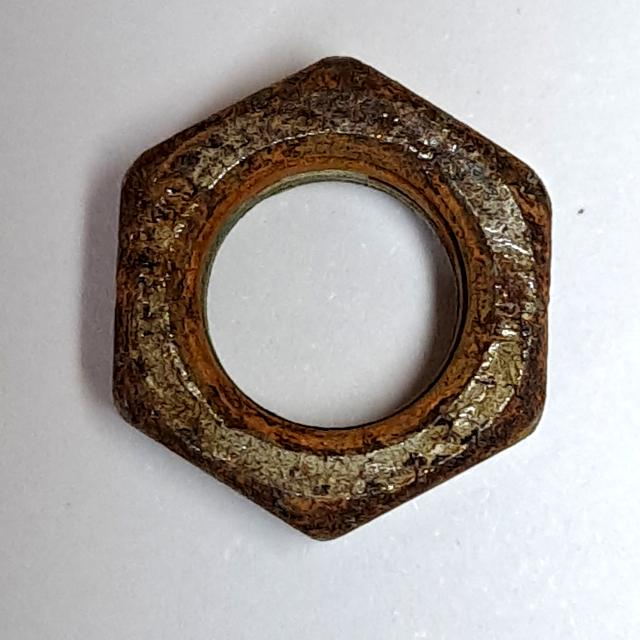Rust: (98, 40, 570, 556)
